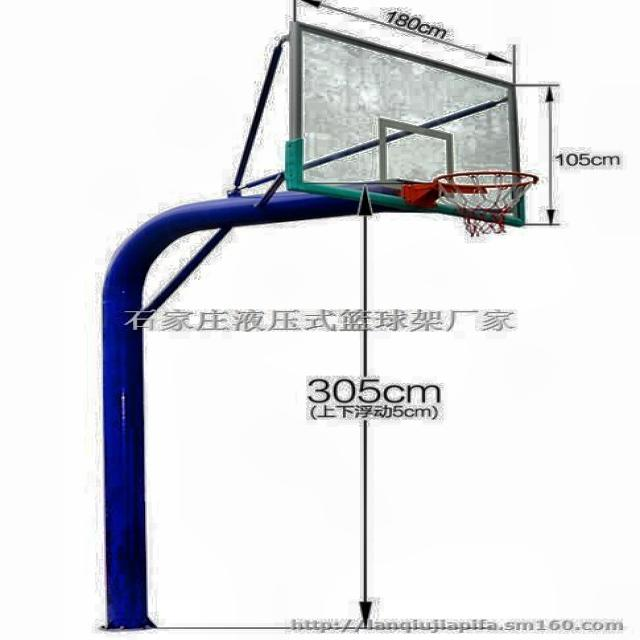rim: (435, 169, 538, 236)
